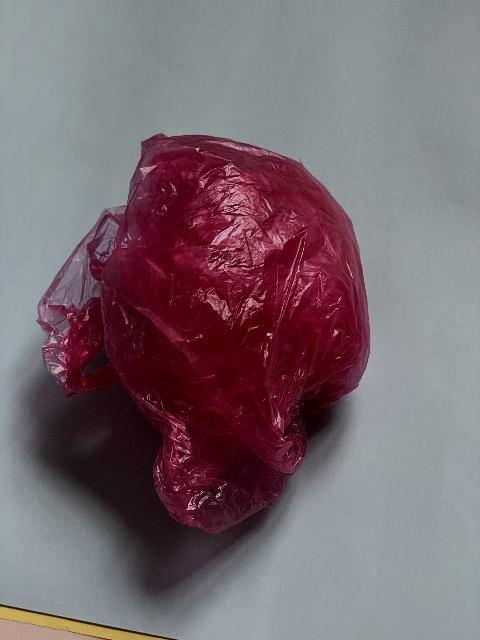plasticbag: (35, 132, 371, 536)
